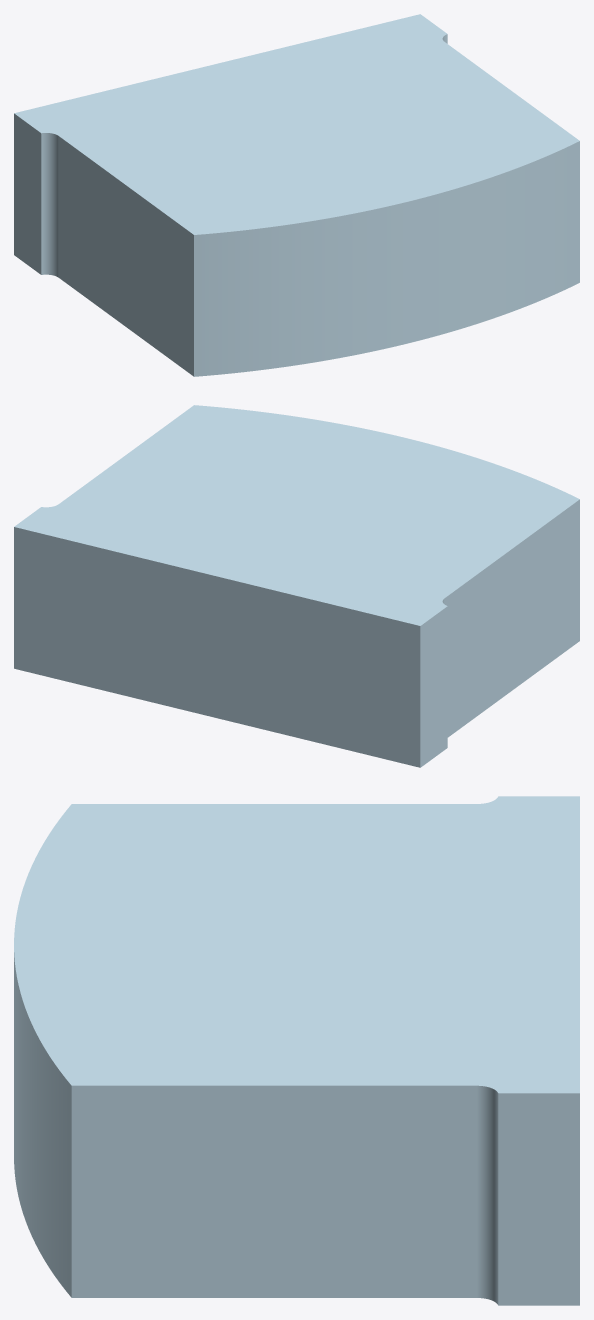
3 renders of one model, top to bottom at view 1: azimuth 30°, elevation 25°; view 2: azimuth 150°, elevation 25°; view 3: azimuth 270°, elevation 25°, orthographic. The views are drawn at different scales.
Visible parts, largest first — view 1: PA-653-F_LOD0; view 2: PA-653-F_LOD0; view 3: PA-653-F_LOD0.
Part boxes in pixels (left/top/right/bottom): PA-653-F_LOD0: left=14, top=14, right=579, bottom=376; PA-653-F_LOD0: left=14, top=405, right=579, bottom=767; PA-653-F_LOD0: left=14, top=796, right=579, bottom=1305.
Size of what is drawn, in the model's own units: 91.44 by 30.48 by 73.68.
